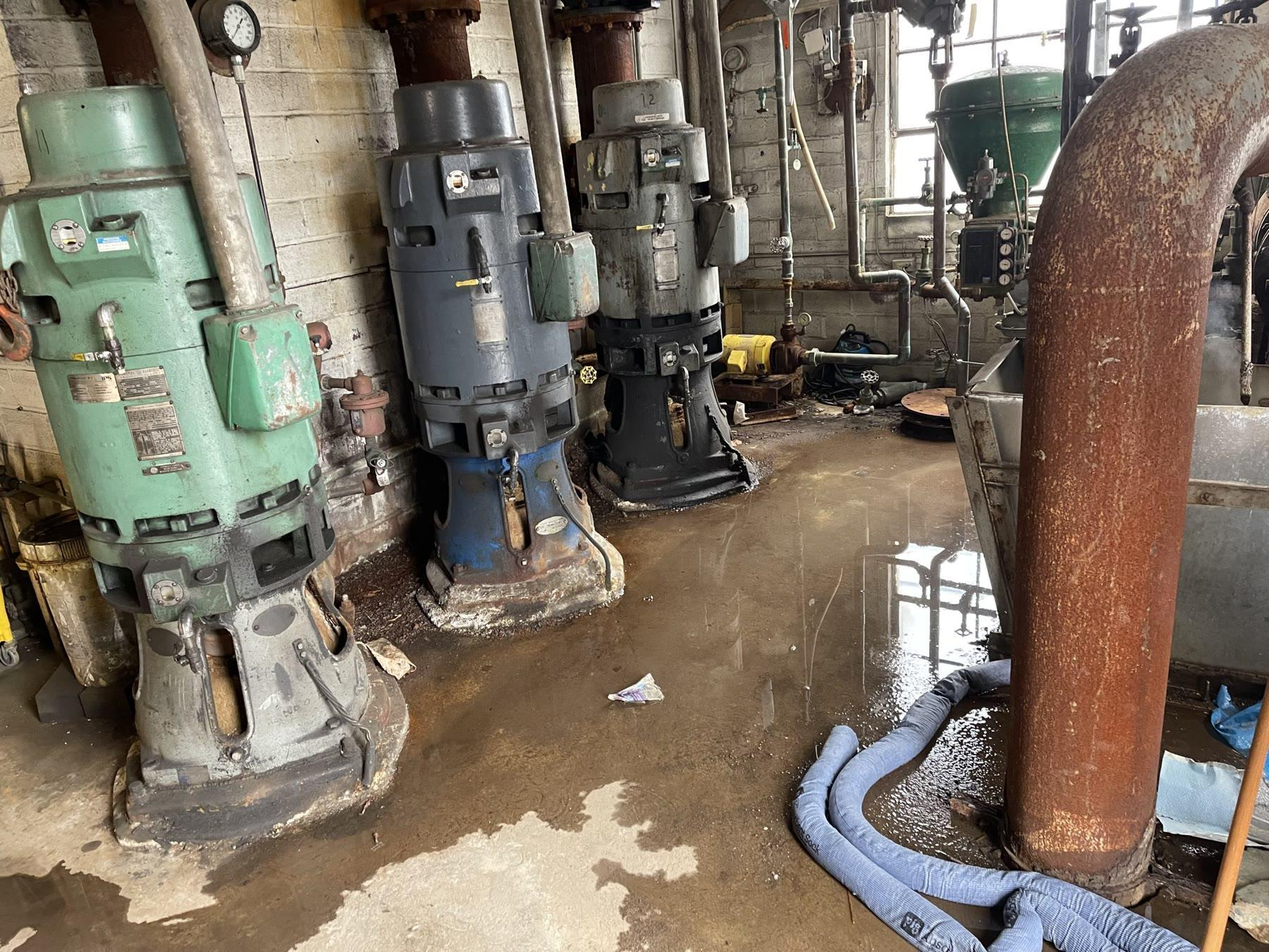water accumulation: (0, 402, 1269, 952)
